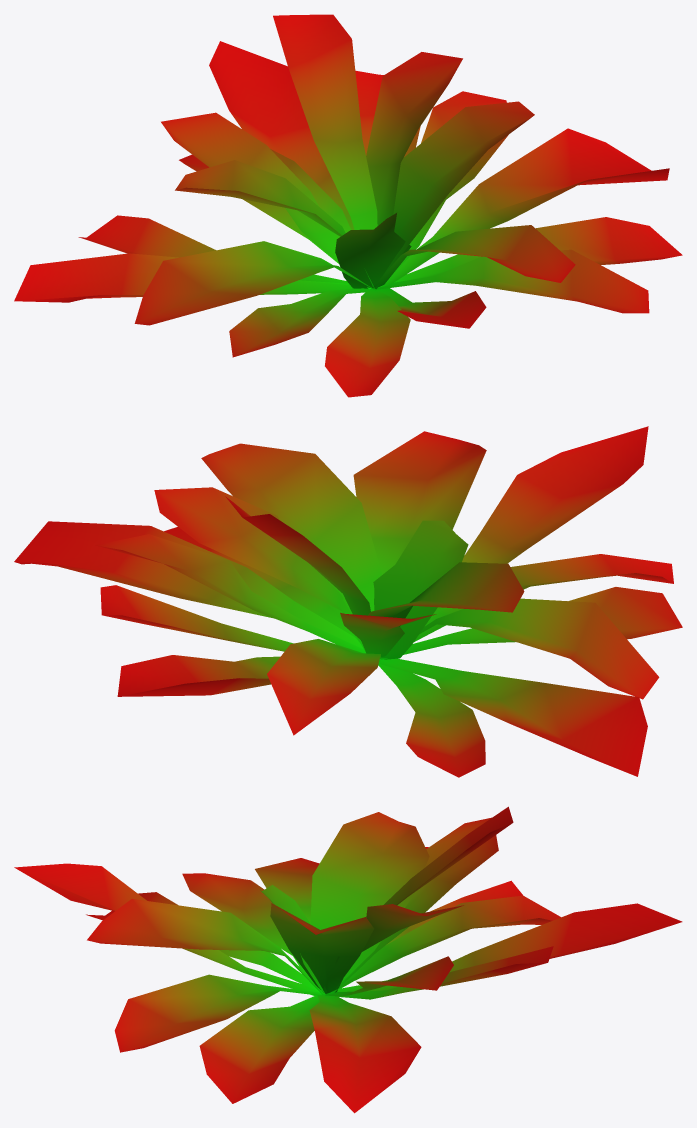
File: Var30_LOD0.fbx
3 renders of one model, top to bottom at view 1: azimuth 30°, elevation 25°; view 2: azimuth 150°, elevation 25°; view 3: azimuth 270°, elevation 25°, orthographic. The views are drawn at different scales.
Visible parts, largest first — view 1: _am9i_Var30_LOD0; view 2: _am9i_Var30_LOD0; view 3: _am9i_Var30_LOD0.
Part boxes in pixels (x1,y1,x2,y2): _am9i_Var30_LOD0: [14, 14, 682, 397]; _am9i_Var30_LOD0: [14, 426, 682, 777]; _am9i_Var30_LOD0: [14, 806, 682, 1113].
Size of the model in its own units: 20.14 by 6.55 by 20.84.
